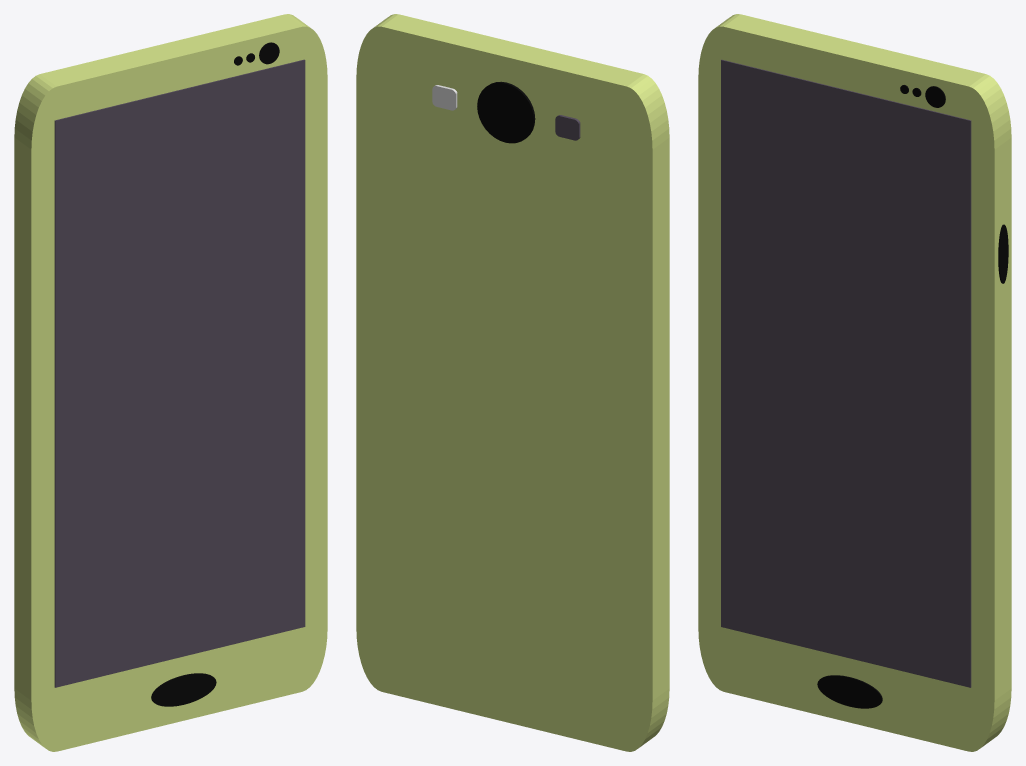
The model's file is Smartphone.fbx.
3 views of the same model, side by side, from view 1: azimuth 30°, elevation 25°; view 2: azimuth 150°, elevation 25°; view 3: azimuth 330°, elevation 25° (orthographic).
Visible parts, largest first — view 1: Ekran, Telefon, StartButton; view 2: Telefon, BackCamera, Speaker, FlashLight; view 3: Ekran, Telefon, StartButton, OpenCloseButton.
Boxes of the visible parts, left/top/right/bottom form: Ekran: left=54, top=59, right=305, bottom=687; Telefon: left=14, top=14, right=327, bottom=751; StartButton: left=151, top=673, right=216, bottom=706; Telefon: left=356, top=14, right=669, bottom=751; BackCamera: left=477, top=81, right=535, bottom=143; Speaker: left=555, top=115, right=580, bottom=140; FlashLight: left=432, top=85, right=457, bottom=110; Ekran: left=721, top=59, right=971, bottom=687; Telefon: left=698, top=14, right=1011, bottom=751; StartButton: left=817, top=675, right=882, bottom=708; OpenCloseButton: left=998, top=224, right=1008, bottom=283.
Bounding box in the file's own units: 2993 × 6398 × 337.
